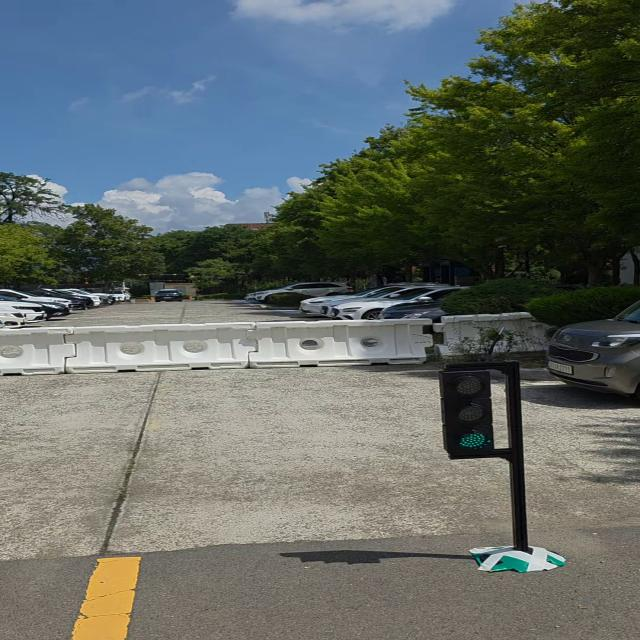green: (440, 368, 496, 458)
